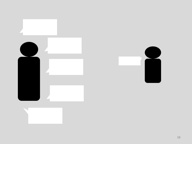left_oneway: (20, 105, 66, 127), (44, 82, 88, 104), (16, 16, 59, 36), (44, 57, 85, 77), (43, 36, 84, 54)
right_oneway: (116, 52, 143, 67)
